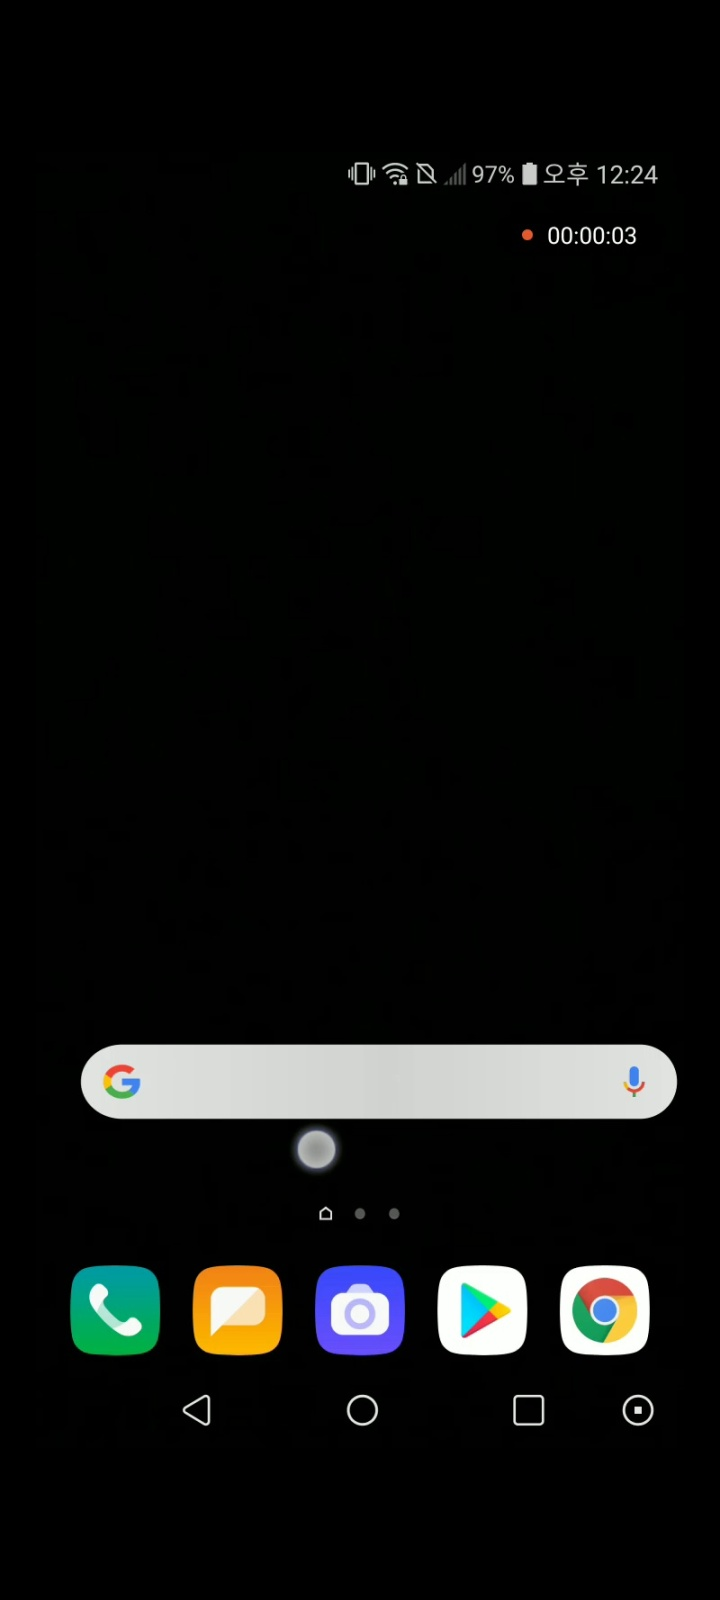Cursor: (295, 1129, 340, 1174)
